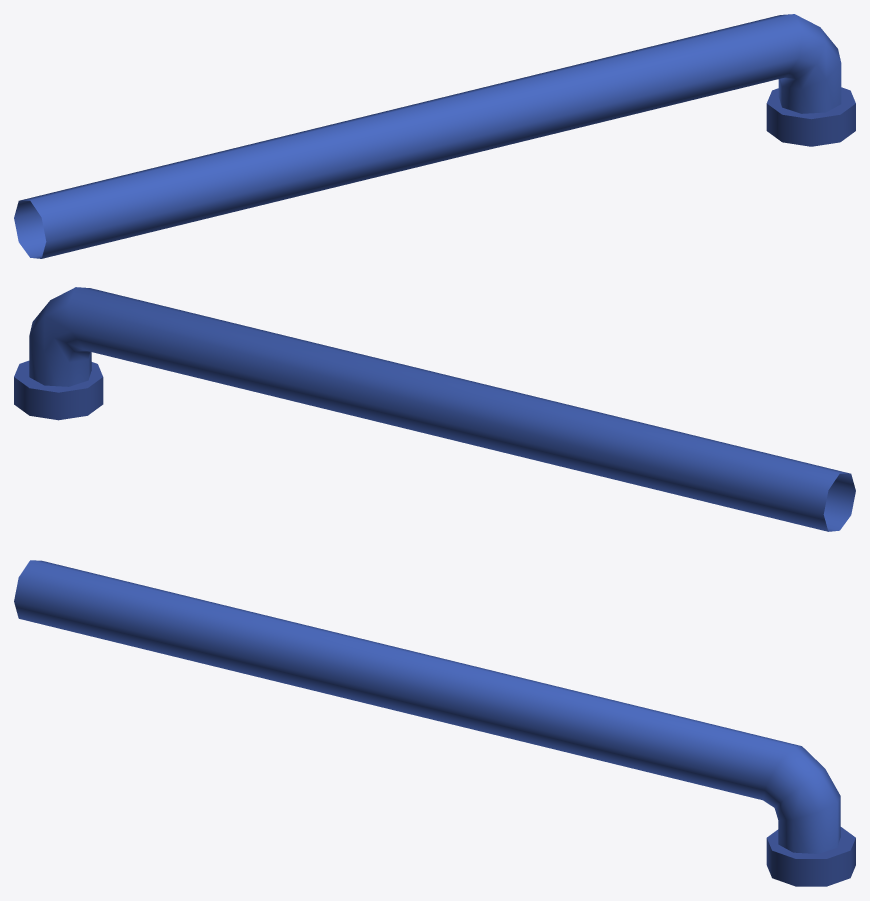
Rendered from Pipe_1_D_2_3.fbx.
3 renders of one model, top to bottom at view 1: azimuth 30°, elevation 25°; view 2: azimuth 150°, elevation 25°; view 3: azimuth 330°, elevation 25°, orthographic.
Parts seen in each view (by area): view 1: Pipe_1_D_2_3; view 2: Pipe_1_D_2_3; view 3: Pipe_1_D_2_3.
Part boxes in pixels (bbox=[...]): Pipe_1_D_2_3: bbox=[14, 14, 855, 258]; Pipe_1_D_2_3: bbox=[14, 287, 855, 531]; Pipe_1_D_2_3: bbox=[14, 560, 855, 886].
Size of the model in its own units: 320 by 43.92 by 30.12.
